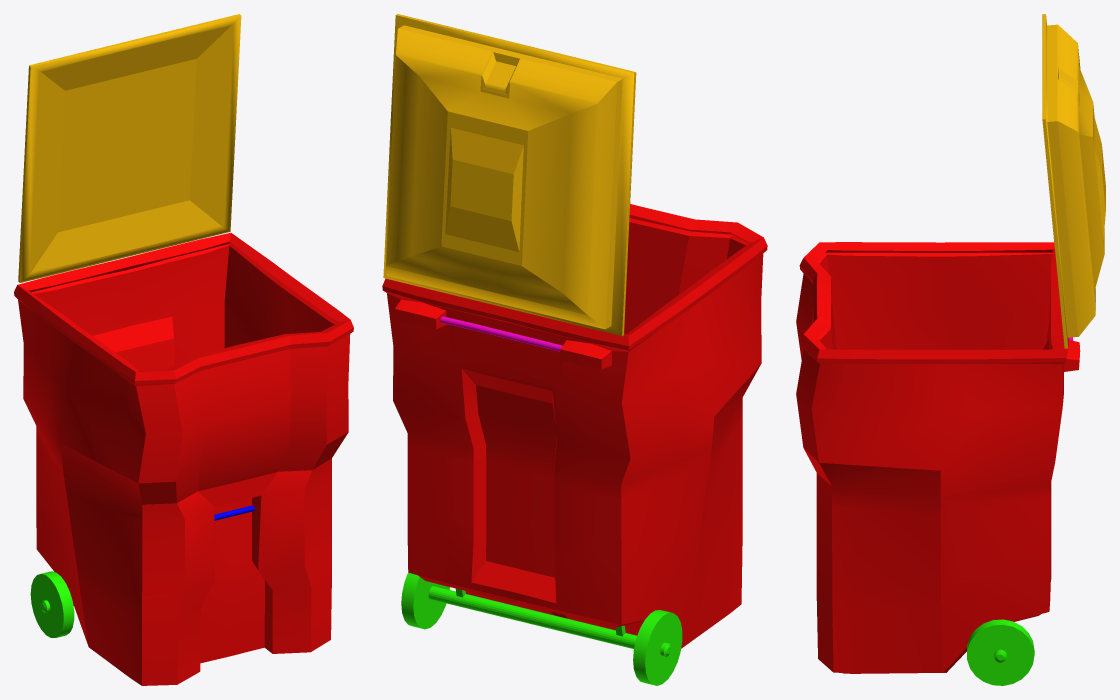
Rendered from BIN_2.FBX.
3 renders of one model, left to right at view 1: azimuth 30°, elevation 25°; view 2: azimuth 150°, elevation 25°; view 3: azimuth 270°, elevation 25°, orthographic. The views are drawn at different scales.
Visible parts, largest first — view 1: Bin, Bin_Lid, Wheels; view 2: Bin, Bin_Lid, Wheels, Back_Metal_Rod; view 3: Bin, Bin_Lid, Wheels.
Part boxes in pixels (x1,y1,x2,y2): Bin: (14,233,353,685); Bin_Lid: (18,14,241,282); Wheels: (30,571,74,637); Bin: (382,204,767,648); Bin_Lid: (383,14,636,335); Wheels: (401,572,682,685); Back_Metal_Rod: (440,316,562,351); Bin: (796,242,1080,673); Bin_Lid: (1042,14,1105,348); Wheels: (967,619,1034,685).
Size of the model in its own units: 151 by 324 by 160.
